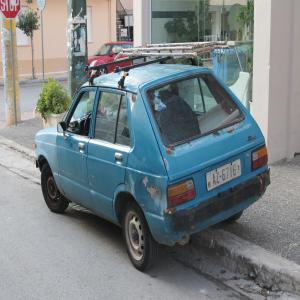Vehicle-registration-plate: (207, 160, 243, 191)
